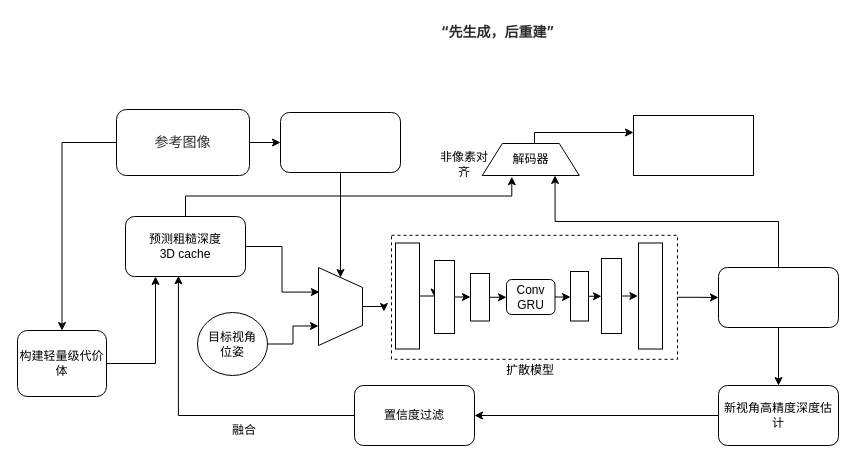
Image size: 856x463. Some labels were removed from this diagram. Here are the shapes that lost their labels. From the top down, the box of each, then its label:
(280, 112, 400, 172): 图像上下文特征
(632, 114, 754, 176): 完整、无空洞的3D资产
(318, 266, 362, 346): 条件编码器
(718, 266, 838, 328): 高几何一致性的 新视角RGB图像
